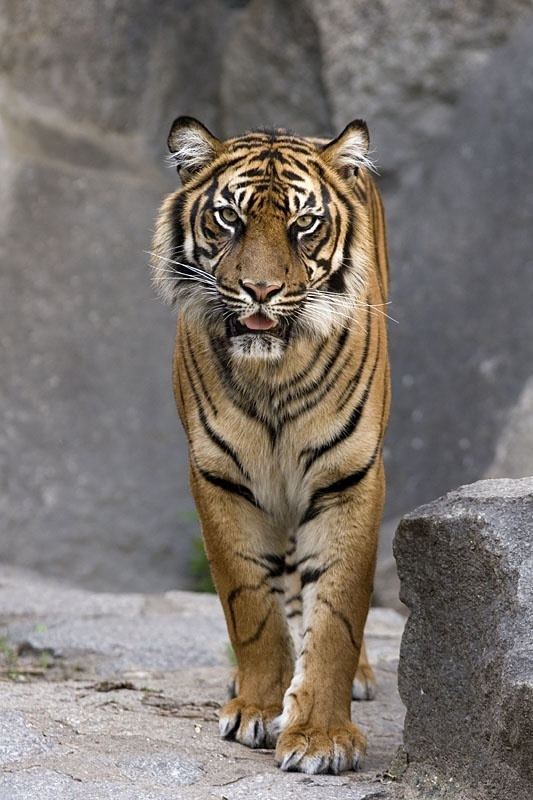tigre: (140, 113, 395, 783)
